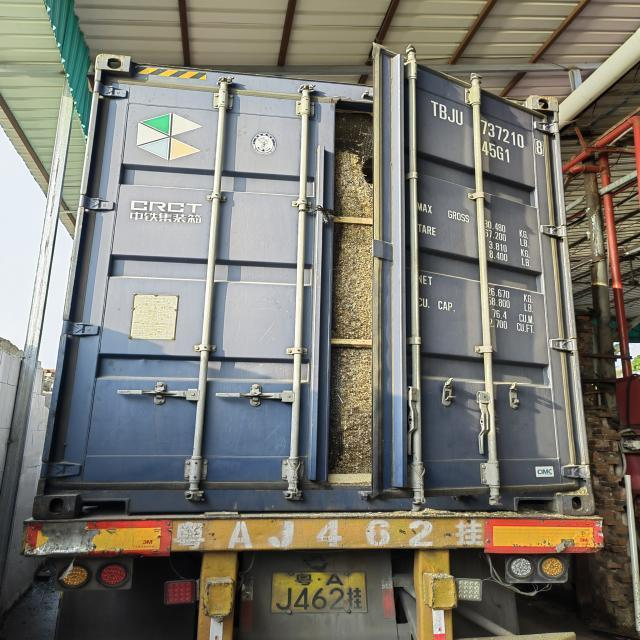ISO: (480, 142, 510, 160)
container_number: (431, 102, 548, 147)
